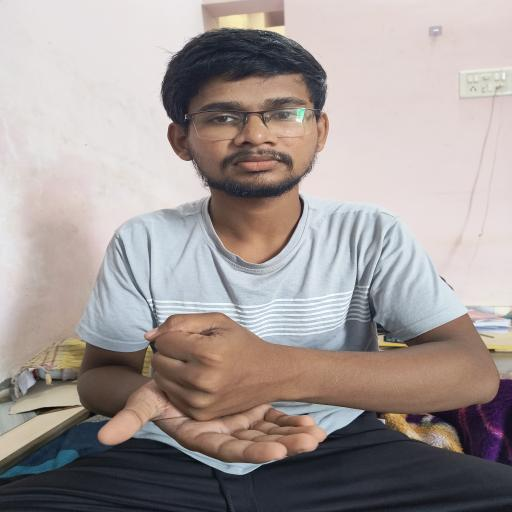Next: (78, 290, 350, 476)
